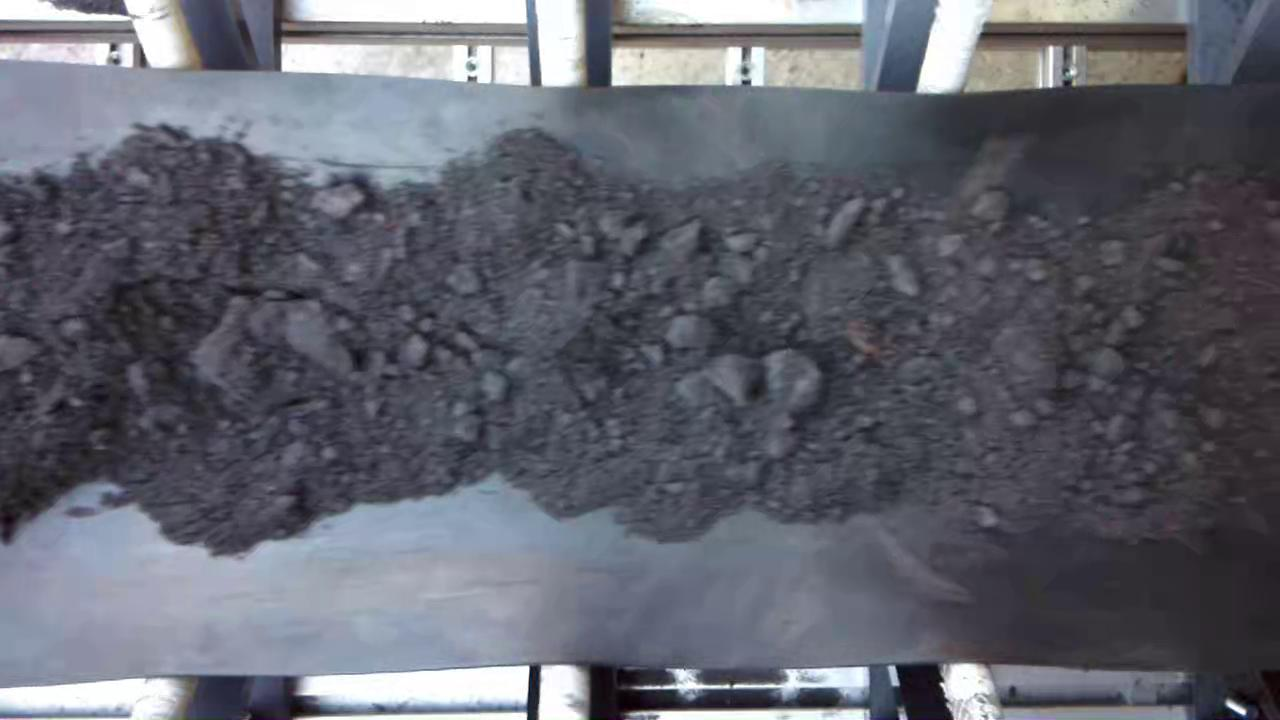conveyor: (5, 93, 1279, 663)
